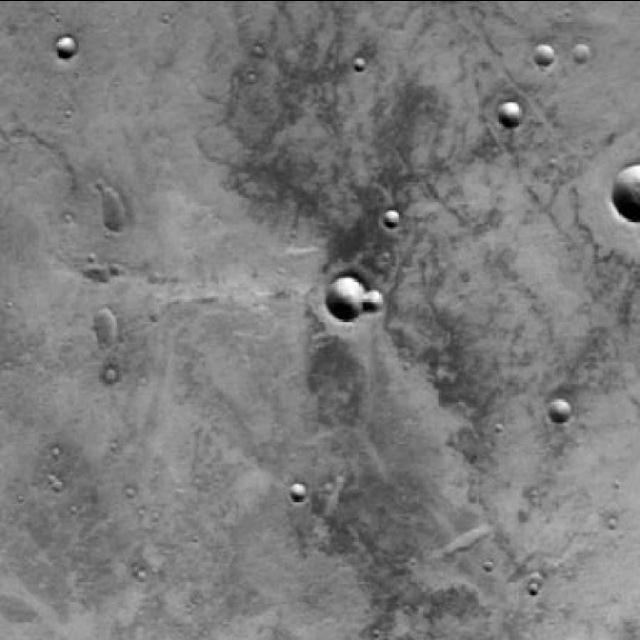crater: (328, 276, 370, 320), (611, 161, 640, 221), (92, 302, 123, 334), (98, 193, 128, 225), (494, 98, 520, 127), (544, 398, 568, 424), (533, 43, 553, 65), (56, 37, 76, 57), (574, 41, 592, 61), (365, 288, 383, 306), (384, 211, 402, 229), (102, 365, 118, 383), (290, 482, 306, 498)
